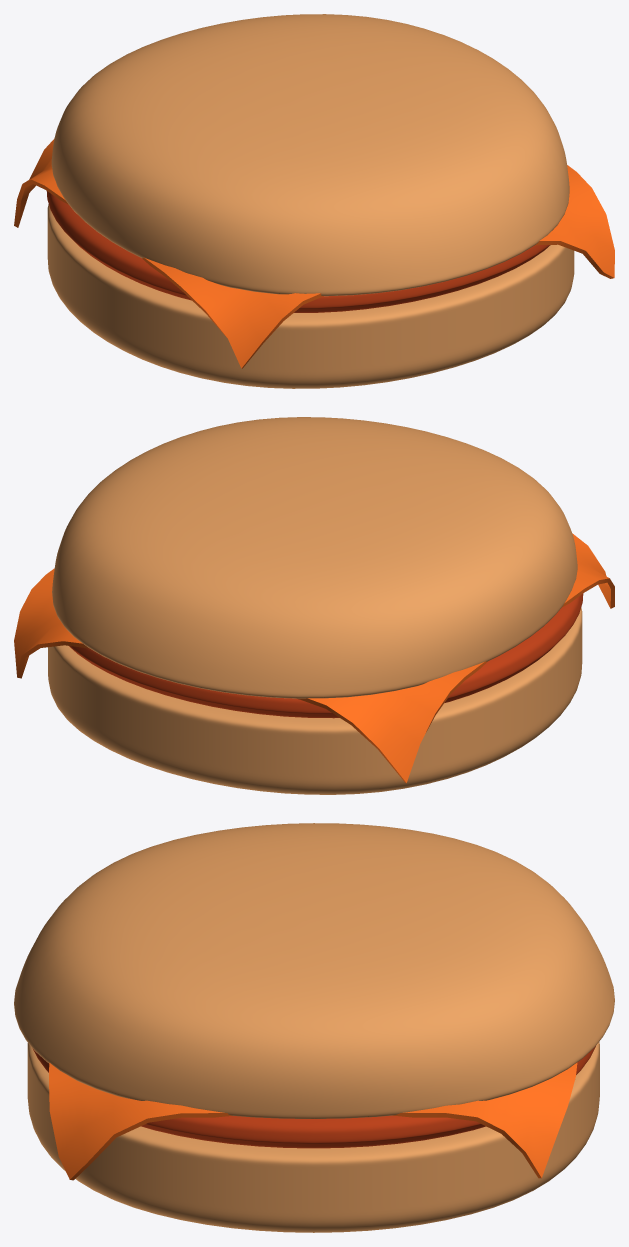
The model's file is hamburger.glb.
The picture shows the model from 3 angles, top to bottom: view 1: azimuth 30°, elevation 25°; view 2: azimuth 150°, elevation 25°; view 3: azimuth 270°, elevation 25°; orthographic projection. The views are drawn at different scales.
Visible parts, largest first — view 1: Cube.002, Cube, Plane, Cube.001; view 2: Cube.002, Cube, Plane, Cube.001; view 3: Cube.002, Cube, Plane, Cube.001.
Boxes of the visible parts, <box> form: Cube.002: <box>51,14,569,296</box>; Cube: <box>47,204,574,388</box>; Plane: <box>14,138,614,368</box>; Cube.001: <box>46,191,550,312</box>; Cube.002: <box>52,417,577,698</box>; Cube: <box>48,607,582,794</box>; Plane: <box>14,533,614,783</box>; Cube.001: <box>69,593,583,718</box>; Cube.002: <box>14,823,614,1118</box>; Cube: <box>27,1041,599,1232</box>; Plane: <box>49,1062,577,1180</box>; Cube.001: <box>32,1046,595,1148</box>.
Bounding box in the file's own units: 8.55 × 3.93 × 8.95.
